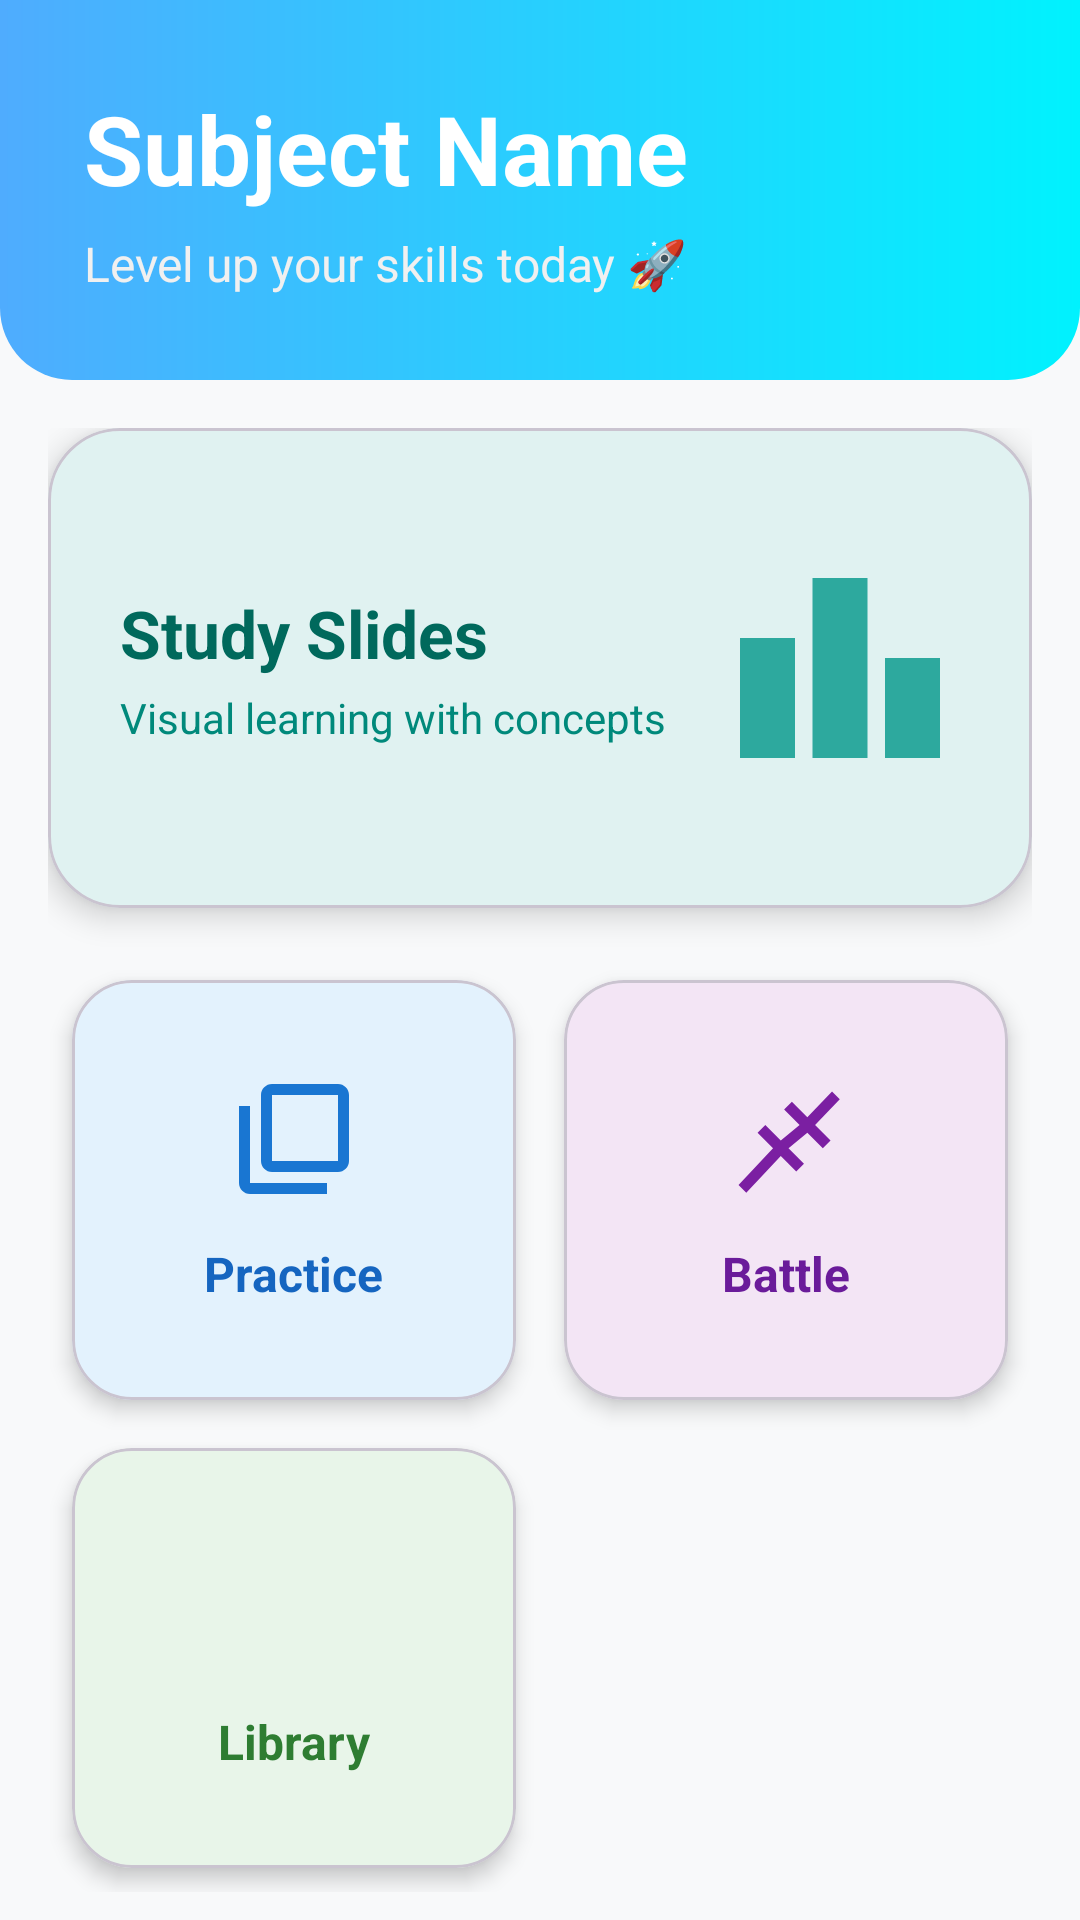

Where icons sit on this 1080px×1920px app screen, as {"left": x1, "top": y1, "right": x2, "bottom": y2}:
leaderboard: {"left": 740, "top": 578, "right": 940, "bottom": 758}
